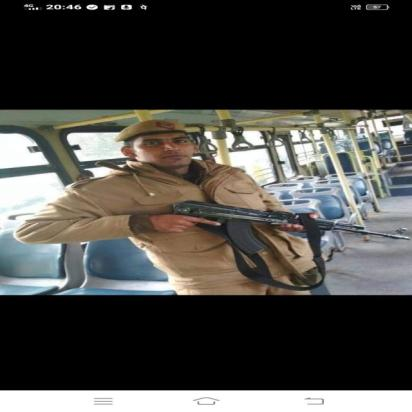Gun: (163, 199, 412, 257)
